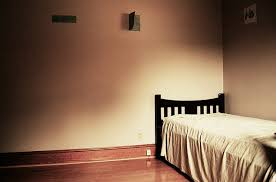Bed: (154, 92, 276, 182)
